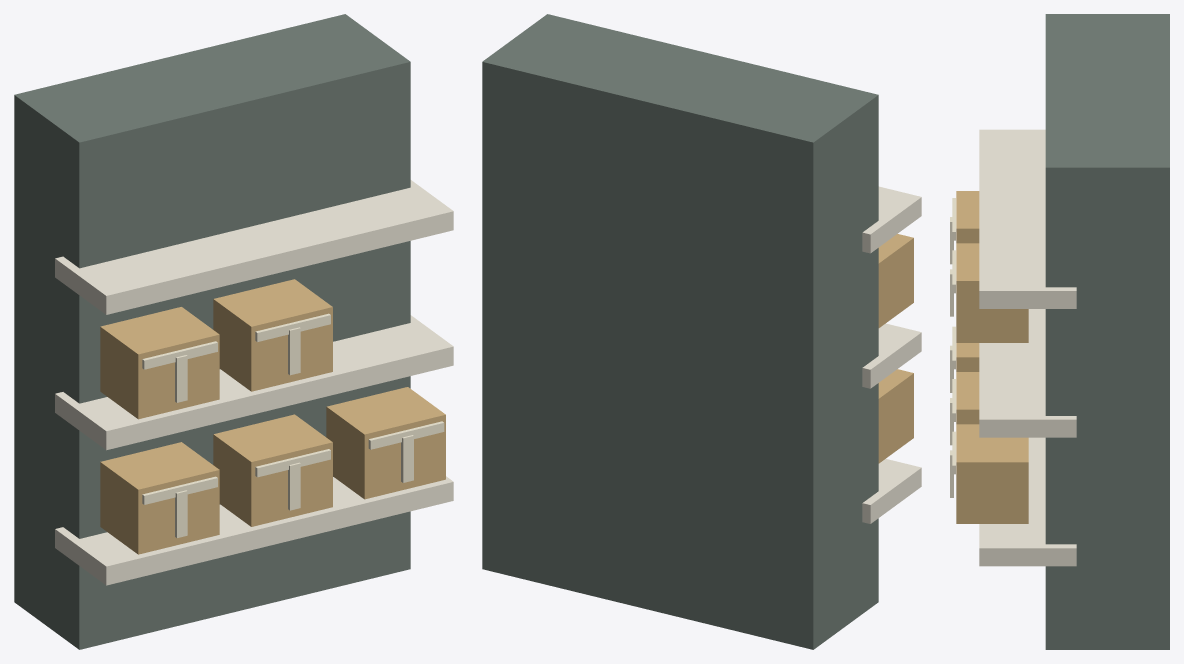
File: storage_rack.glb
3 views of the same model, side by side, from view 1: azimuth 30°, elevation 25°; view 2: azimuth 150°, elevation 25°; view 3: azimuth 270°, elevation 25° (orthographic). The views are drawn at different scales.
Parts seen in each view (by area): view 1: frame, box (×5), shelf_0.9, shelf_0.58, shelf_0.26, tape_h (×5); view 2: frame, box (×2), shelf_0.9, shelf_0.58, shelf_0.26; view 3: frame, box (×5), shelf_0.9, shelf_0.58, shelf_0.26.
Boxes of the visible parts, x1,y1,x2,y2 form: frame: (14, 14, 410, 649); box (×5): (100, 279, 445, 554); shelf_0.9: (55, 180, 453, 314); shelf_0.58: (55, 315, 453, 450); shelf_0.26: (55, 476, 453, 585); tape_h (×5): (142, 313, 444, 504); frame: (482, 14, 878, 649); box (×2): (878, 234, 913, 463); shelf_0.9: (862, 186, 921, 253); shelf_0.58: (862, 323, 921, 388); shelf_0.26: (862, 459, 921, 523); frame: (1045, 14, 1169, 649); box (×5): (956, 191, 1028, 523); shelf_0.9: (979, 129, 1076, 308); shelf_0.58: (979, 309, 1076, 437); shelf_0.26: (979, 437, 1076, 566).
Size of the model in its own units: 0.86 by 1.2 by 0.4955.
